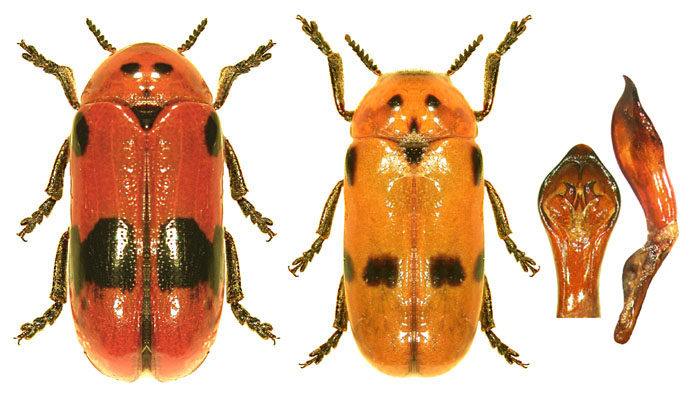Clytra_novempunctata: (288, 11, 545, 396), (6, 8, 279, 364)
